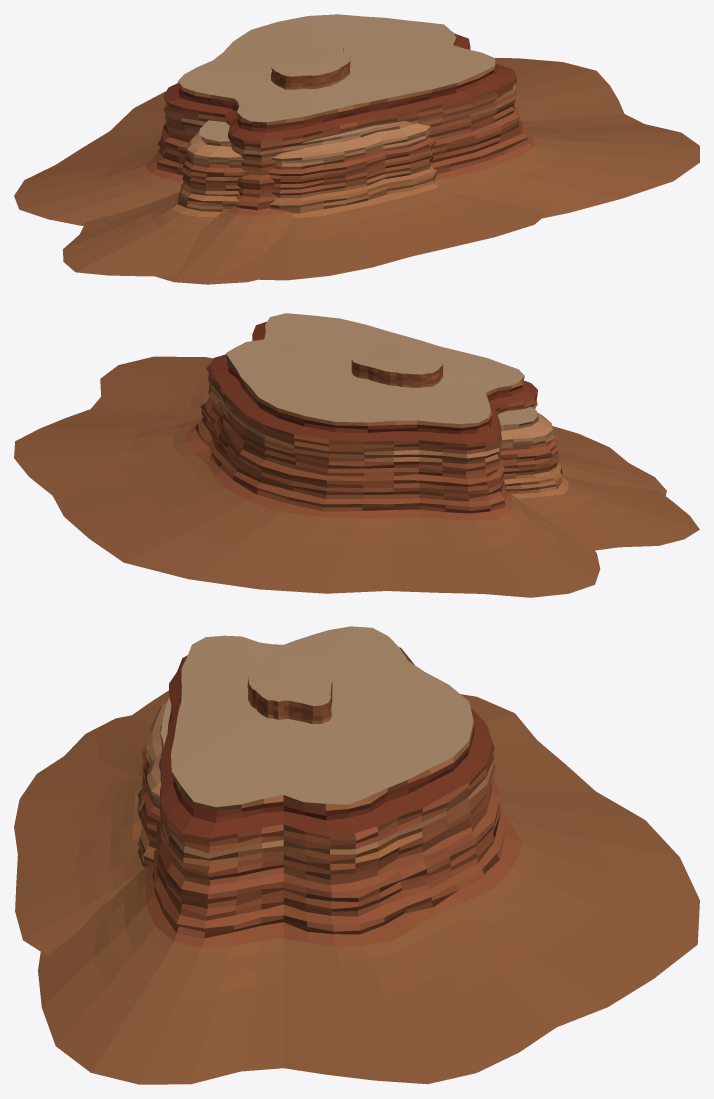
Rendered from props_canyon.glb.
The picture shows the model from 3 angles, top to bottom: view 1: azimuth 30°, elevation 25°; view 2: azimuth 150°, elevation 25°; view 3: azimuth 270°, elevation 25°; orthographic projection. The views are drawn at different scales.
Visible parts, largest first — view 1: mesa, mesa_b, butte; view 2: mesa, mesa_b, butte; view 3: mesa, mesa_b, butte.
Part boxes in pixels (box(x1,y1,x2,y2)): mesa: box(14, 14, 699, 284); mesa_b: box(63, 120, 548, 280); butte: box(271, 44, 350, 89); mesa: box(14, 313, 666, 597); mesa_b: box(497, 406, 699, 550); butte: box(351, 346, 443, 387); mesa: box(38, 626, 699, 1084); mesa_b: box(14, 690, 171, 955); butte: box(247, 654, 332, 723).
Size of the model in its own units: 428 by 125 by 302.
